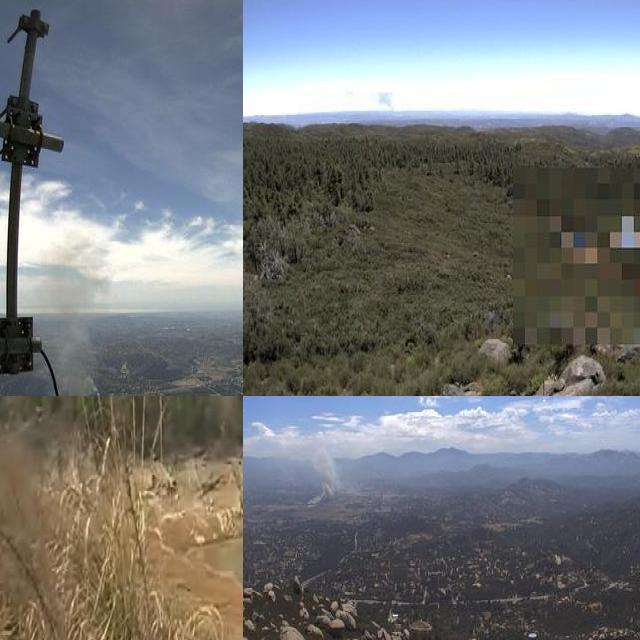smoke: (29, 233, 115, 396), (299, 433, 350, 515), (371, 88, 401, 114)
